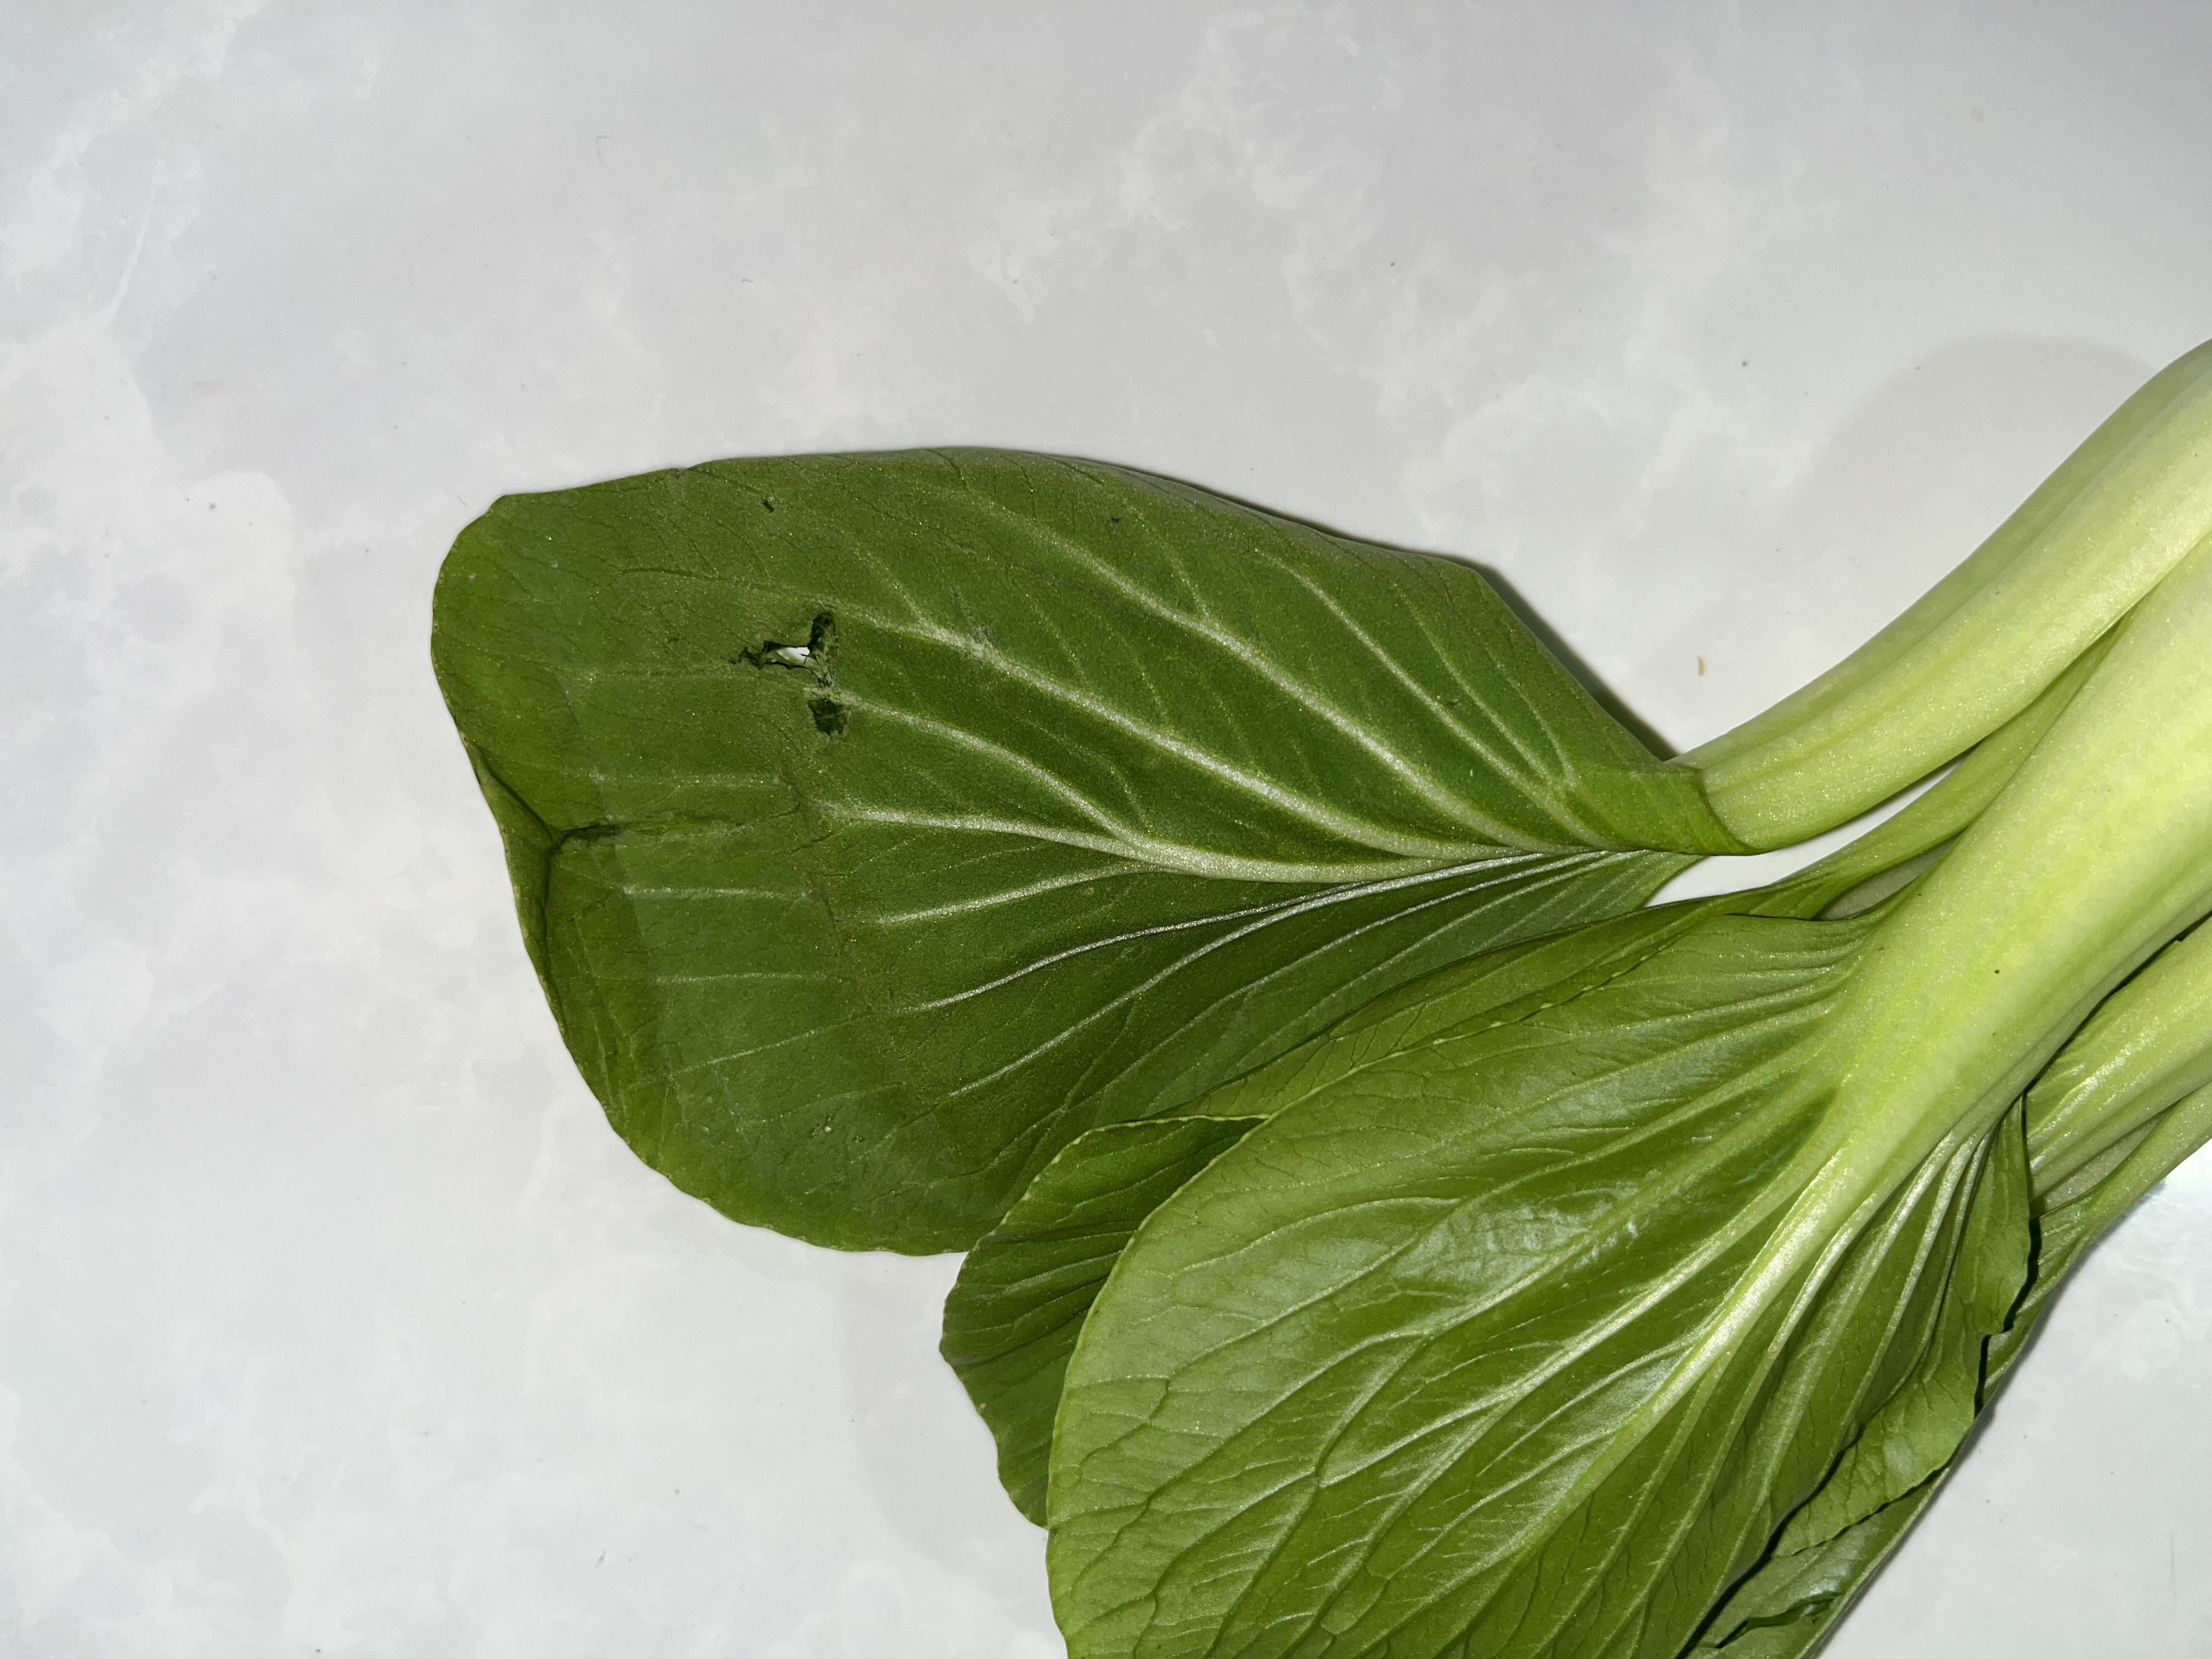Healthy-Pechay: (324, 247, 2212, 1659)
